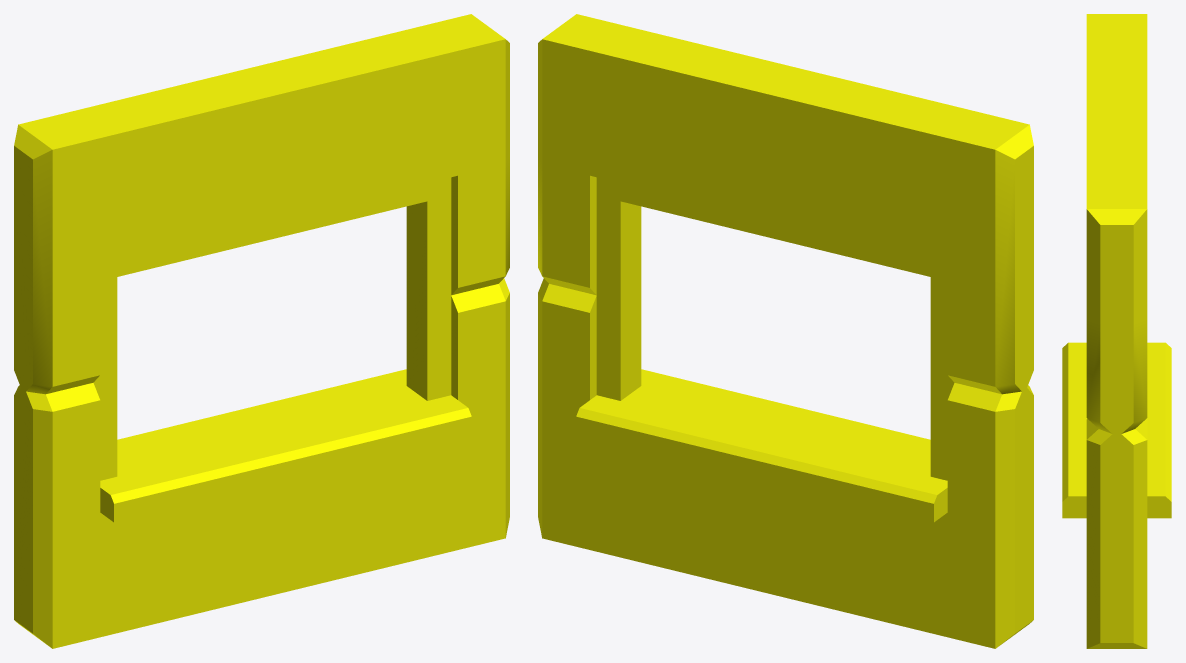
The model's file is kaykit-wall-orderwindow.glb.
The picture shows the model from 3 angles, left to right: view 1: azimuth 30°, elevation 25°; view 2: azimuth 150°, elevation 25°; view 3: azimuth 270°, elevation 25°; orthographic projection. The views are drawn at different scales.
Visible parts, largest first — view 1: wall_orderwindow; view 2: wall_orderwindow; view 3: wall_orderwindow.
Boxes of the visible parts, <box> form: wall_orderwindow: <box>14,14,509,648</box>; wall_orderwindow: <box>538,14,1033,648</box>; wall_orderwindow: <box>1062,14,1171,648</box>.
Bounding box in the file's own units: 4 × 4 × 0.8999.
